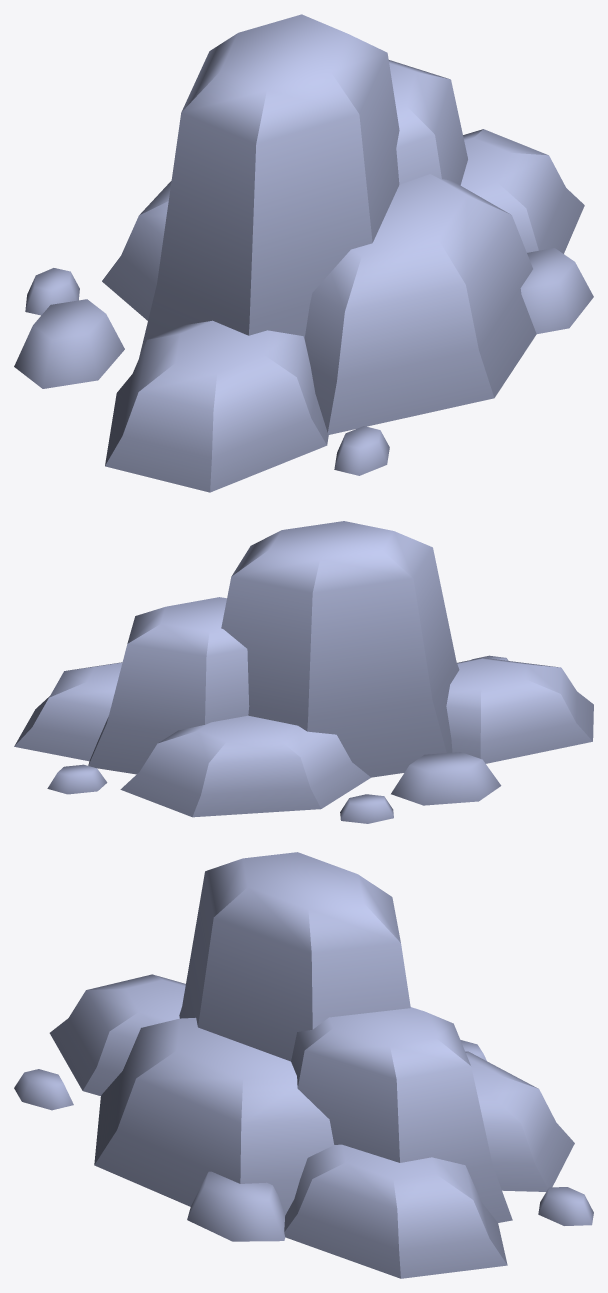
Rendered from rocks-tall.003_lev2.glb.
3 views of the same model, one above another, from view 1: azimuth 30°, elevation 25°; view 2: azimuth 150°, elevation 25°; view 3: azimuth 270°, elevation 25° (orthographic). The views are drawn at different scales.
Parts seen in each view (by area): view 1: rocks-tall.003_lev2; view 2: rocks-tall.003_lev2; view 3: rocks-tall.003_lev2.
Boxes of the visible parts, <box> form: rocks-tall.003_lev2: <box>14,14,593,492</box>; rocks-tall.003_lev2: <box>14,521,593,823</box>; rocks-tall.003_lev2: <box>14,852,593,1278</box>.
Size of the model in its own units: 13.73 by 5.88 by 12.55.
Materials: 1 (1 with a texture image).
